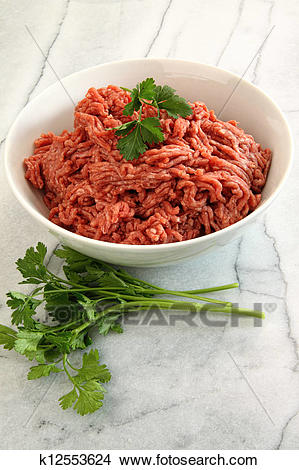ground_beef: (40, 83, 270, 254)
